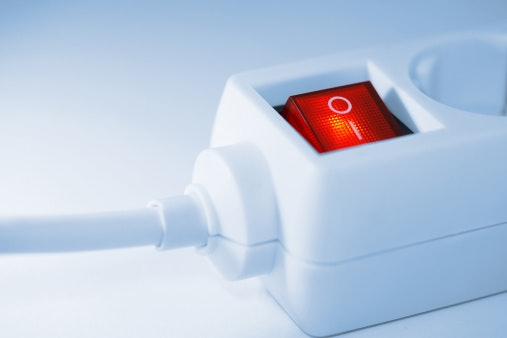Three_eye_plug: (188, 23, 507, 338)
